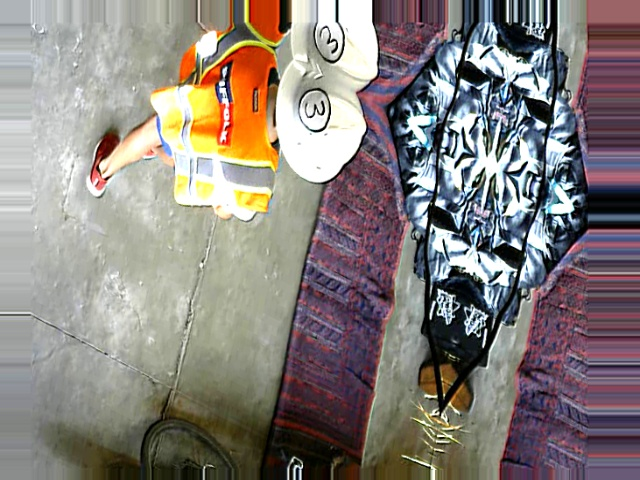three: (295, 79, 334, 139)
